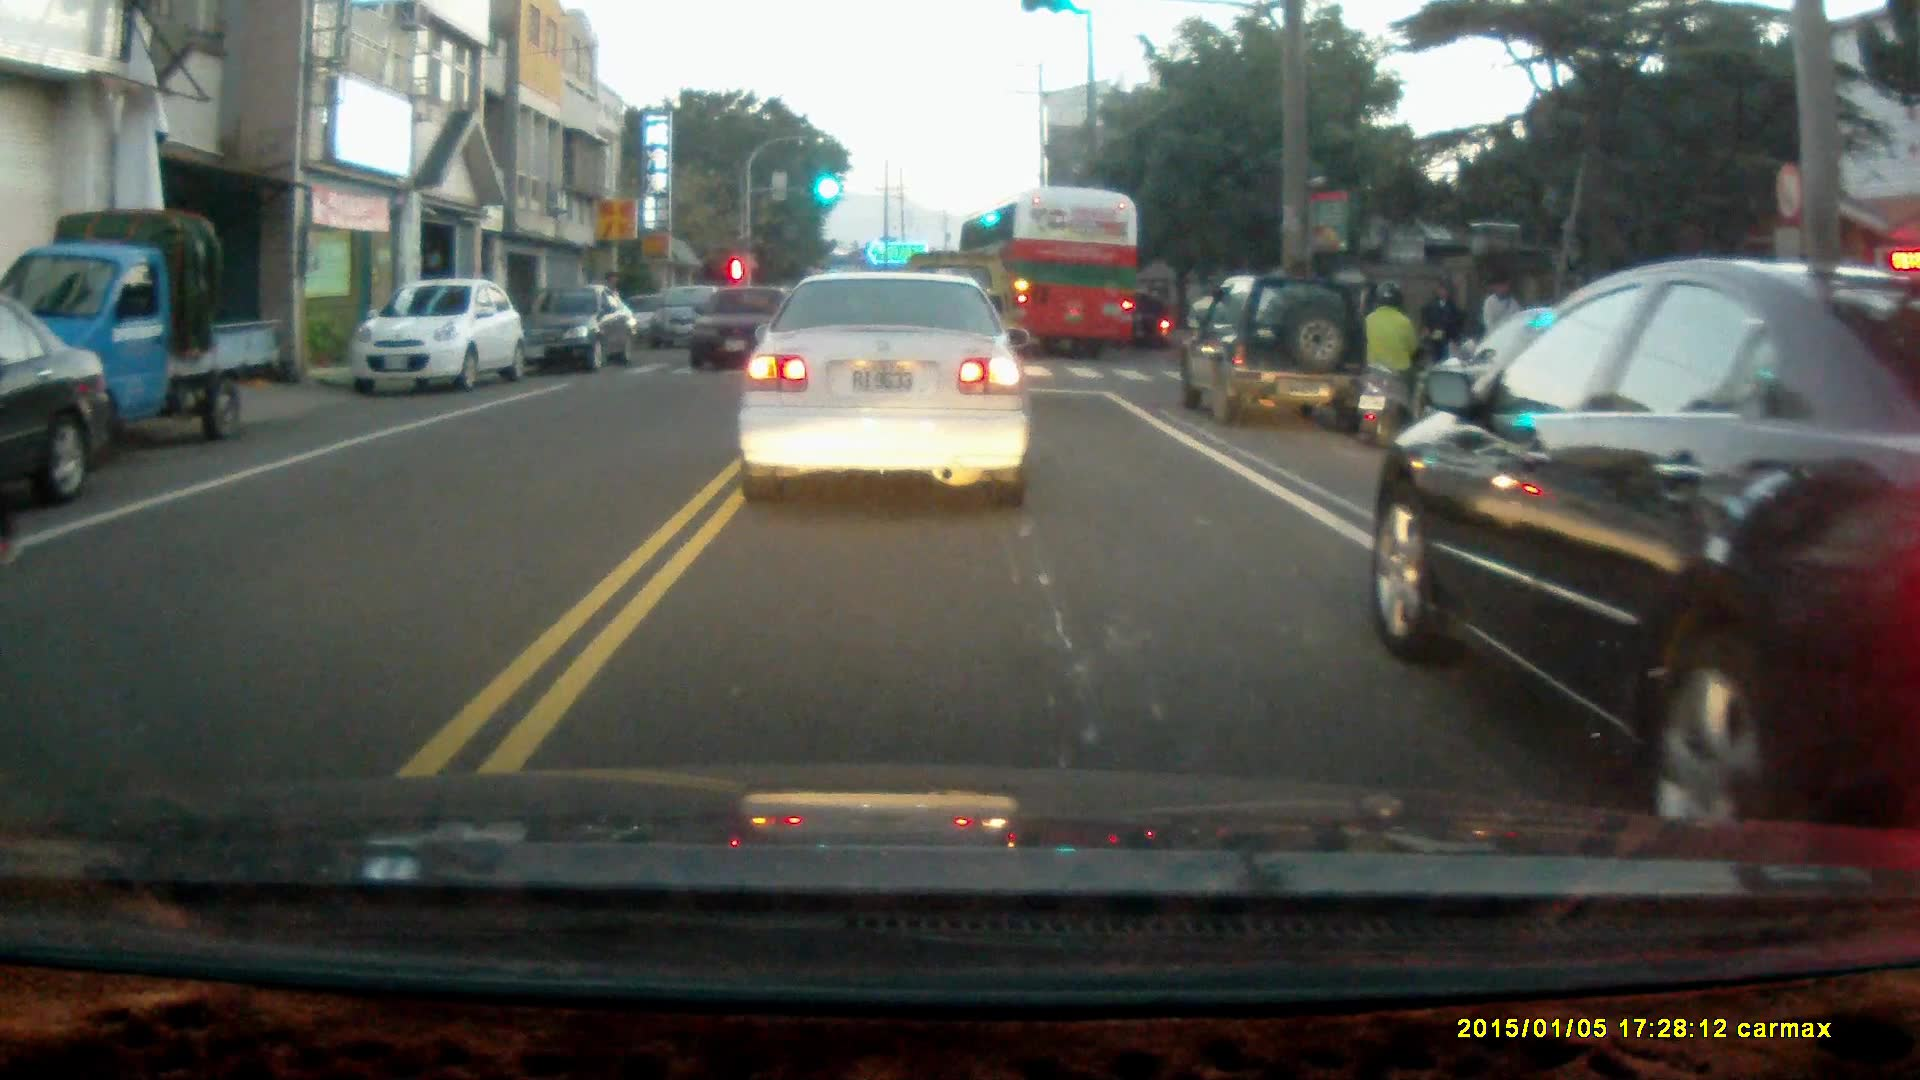pedestrian: (1477, 273, 1526, 385), (1418, 275, 1463, 394)
rider: (1353, 282, 1425, 448), (1115, 292, 1176, 349)
vehicle: (1377, 257, 1920, 834), (731, 267, 1033, 507), (2, 209, 278, 448), (1406, 300, 1727, 463), (1180, 275, 1378, 433), (962, 188, 1141, 358), (1, 296, 120, 515), (353, 282, 519, 397), (526, 284, 644, 374), (647, 286, 734, 358)
